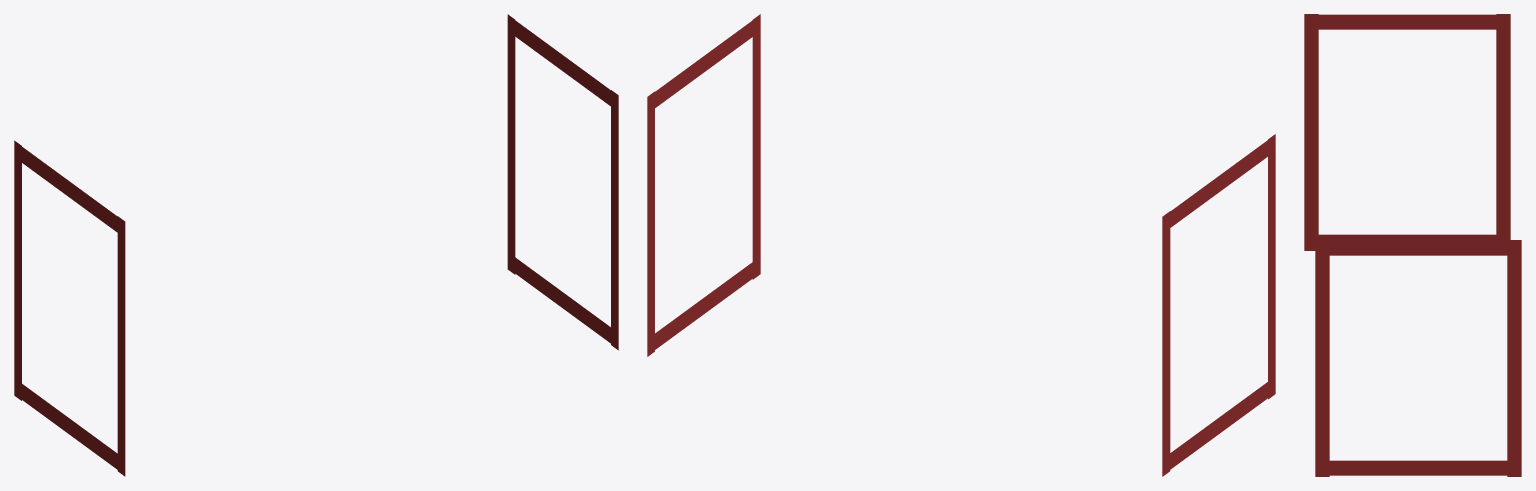
Rendered from cab-detail-2.dae.
The picture shows the model from 3 angles, left to right: view 1: azimuth 30°, elevation 25°; view 2: azimuth 150°, elevation 25°; view 3: azimuth 270°, elevation 25°; orthographic projection. The views are drawn at different scales.
Visible parts, largest first — view 1: Plane_003_001, Plane_003, Plane_004_001, Plane_004, Plane_002, Plane_002_001, Plane_001_001, Plane_001; view 2: Plane_004_001, Plane_004, Plane_003_001, Plane_003, Plane_002, Plane_002_001, Plane_001_001, Plane_001; view 3: Plane_003, Plane_004, Plane_003_001, Plane_004_001, Plane_002_001, Plane_001, Plane_002, Plane_001_001.
Part boxes in pixels (box(x1,y1,x2,y2)): Plane_003_001: box(117, 216, 125, 476); Plane_003: box(507, 14, 515, 274); Plane_004_001: box(14, 140, 21, 400); Plane_004: box(611, 90, 618, 350); Plane_002: box(515, 20, 618, 111); Plane_002_001: box(14, 141, 117, 232); Plane_001_001: box(20, 382, 118, 469); Plane_001: box(514, 257, 610, 343); Plane_004_001: box(1162, 211, 1170, 476); Plane_004: box(752, 14, 760, 279); Plane_003_001: box(1268, 134, 1275, 399); Plane_003: box(647, 91, 654, 356); Plane_002: box(654, 15, 760, 108); Plane_002_001: box(1162, 140, 1268, 227); Plane_001_001: box(1168, 381, 1268, 469); Plane_001: box(654, 262, 752, 350); Plane_003: box(1507, 240, 1521, 476); Plane_004: box(1315, 240, 1329, 476); Plane_003_001: box(1304, 14, 1318, 250); Plane_004_001: box(1496, 14, 1510, 240); Plane_002_001: box(1318, 14, 1510, 29); Plane_001: box(1327, 460, 1508, 475); Plane_002: box(1315, 240, 1507, 255); Plane_001_001: box(1317, 234, 1498, 240).
Size of the model in its own units: 1.86 by 0.7562 by 0.9083.
